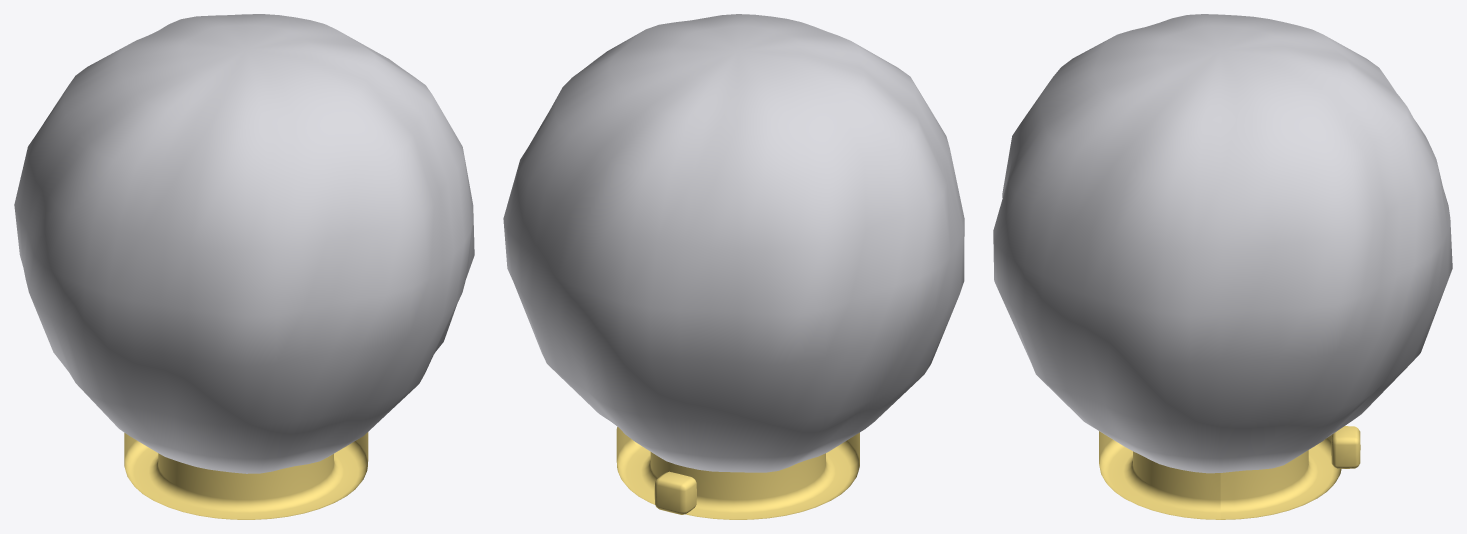
The model's file is BigBadVacuumBag.glb.
The picture shows the model from 3 angles, left to right: view 1: azimuth 30°, elevation 25°; view 2: azimuth 150°, elevation 25°; view 3: azimuth 270°, elevation 25°; orthographic projection.
Visible parts, largest first — view 1: Bag, Collar; view 2: Bag, Collar; view 3: Bag, Collar.
Part boxes in pixels (box(x1,y1,x2,y2)): Bag: box(14, 14, 474, 473); Collar: box(124, 432, 368, 519); Bag: box(503, 14, 964, 472); Collar: box(616, 427, 859, 519); Bag: box(993, 14, 1452, 473); Collar: box(1099, 426, 1360, 519).
Bounding box in the file's own units: 14.21 × 14.3 × 14.13.
